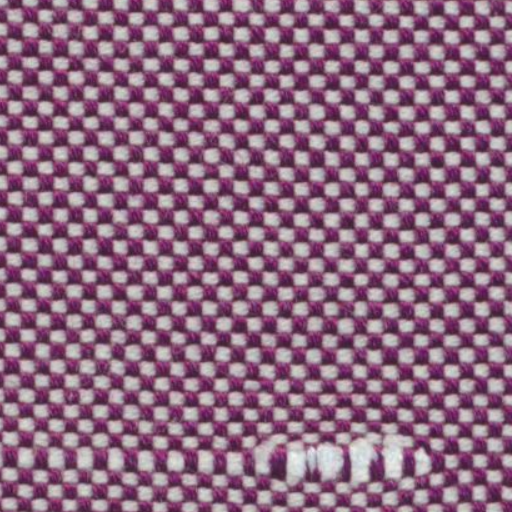DaiSha: (33, 430, 460, 487)
